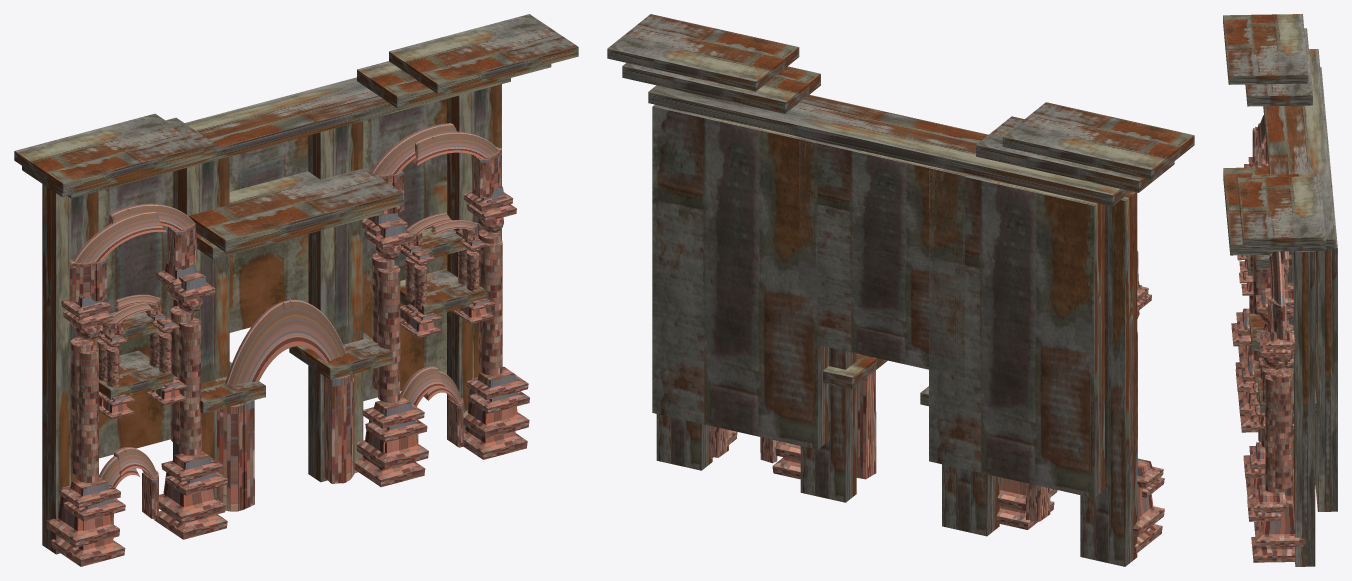
The model's file is murTimgad2_.glb.
3 renders of one model, left to right at view 1: azimuth 30°, elevation 25°; view 2: azimuth 150°, elevation 25°; view 3: azimuth 270°, elevation 25°, orthographic. The views are drawn at different scales.
Visible parts, largest first — view 1: arriere, avant; view 2: arriere, avant; view 3: arriere, avant.
Part boxes in pixels (x1,y1,x2,y2): arriere: (14,14,578,554); avant: (46,123,529,566); arriere: (607,14,1194,566); avant: (709,250,1164,553); arriere: (1223,14,1337,566); avant: (1231,115,1304,562).
Size of the model in its own units: 0.6135 by 0.4431 by 0.1323.
Materials: 2 (2 with a texture image).
